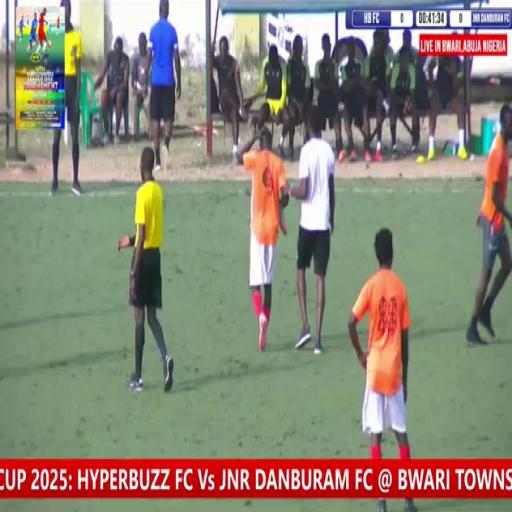distract: (291, 116, 339, 362)
referee: (122, 141, 180, 401), (52, 0, 86, 201)
team1: (354, 218, 418, 464), (232, 118, 288, 342)
